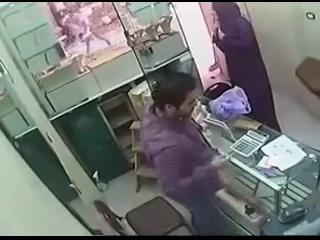Normal: (140, 70, 232, 234), (94, 196, 194, 236), (230, 128, 270, 158)
